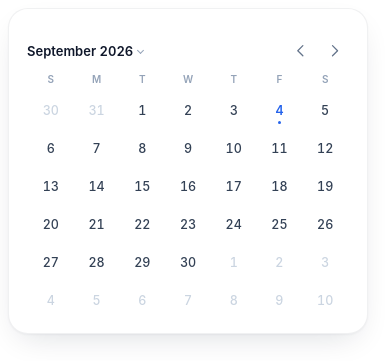
it: calendar zoom: stepping through the levels › zooms one level in per cell click, moving the view with it
Click the button with aria-label "zoom out".
click(85, 51)  # box [20,39,150,63]
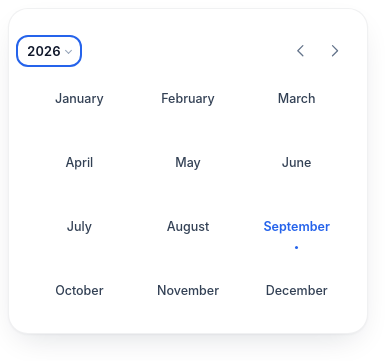
Click the button named "zoom out".
click(49, 51)  # box [20,39,78,63]
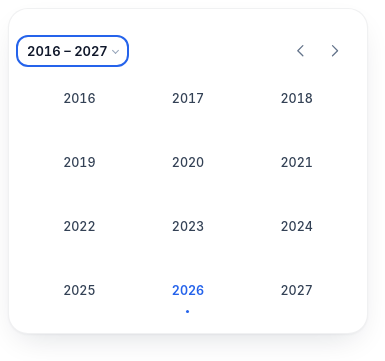
Click the button named "zoom out".
click(72, 51)  # box [20,39,125,63]
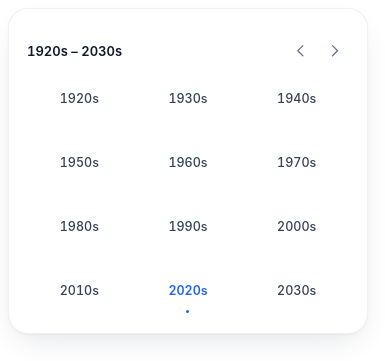
Click the cell named "1950 to 1959".
click(79, 162)  # box [28,133,131,191]
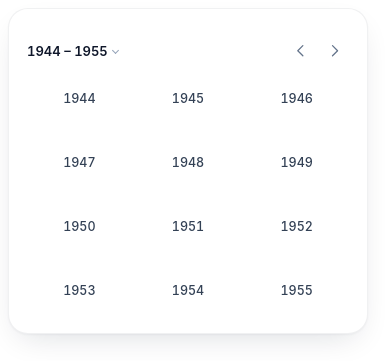
Click the cell "1955".
click(297, 290)  # box [245,261,348,319]
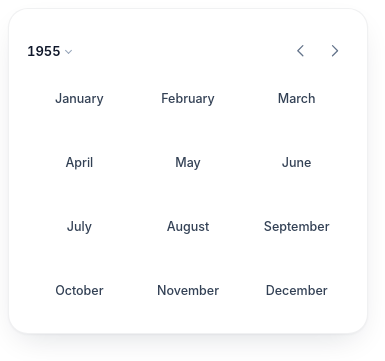
Click the cell named "March 1955".
click(297, 98)  # box [245,69,348,127]
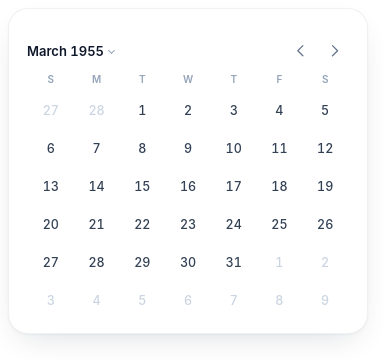
Expected: the table with class "dpng-zoom" is gone
Expected: the button "March 1955" is shown, [20,39,121,63]
